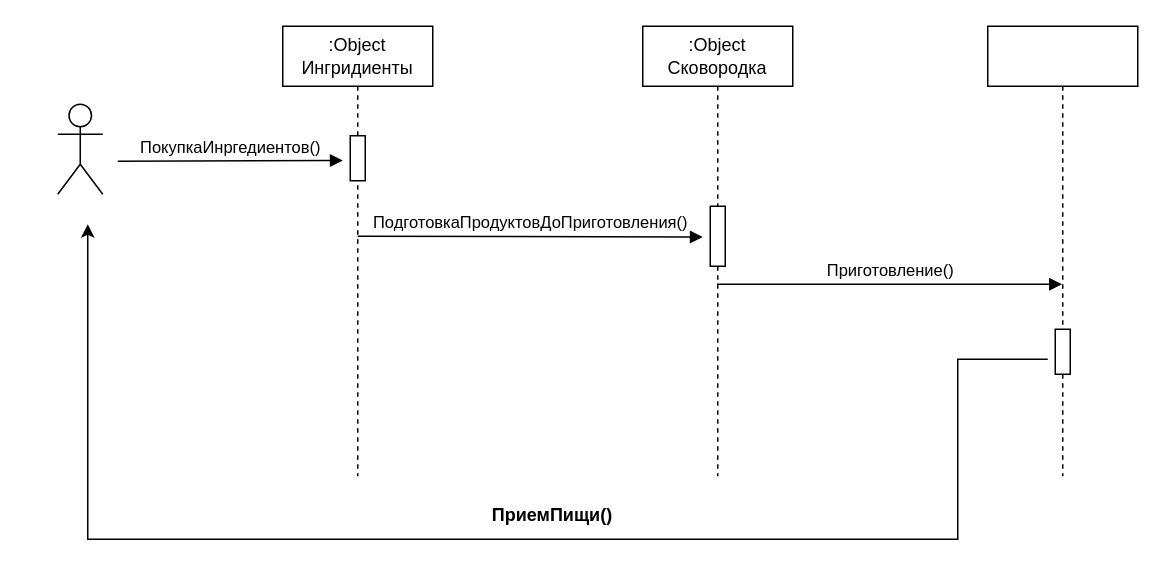
The diagram is 1164 pixels wide and 578 high, and some of its shapes have lost their labels. The box of each missing label's shape, as (x1, y1, x2, y2) in pixels:
:Object Плита: (986, 25, 1138, 476)
Голодающий: (56, 103, 103, 194)
